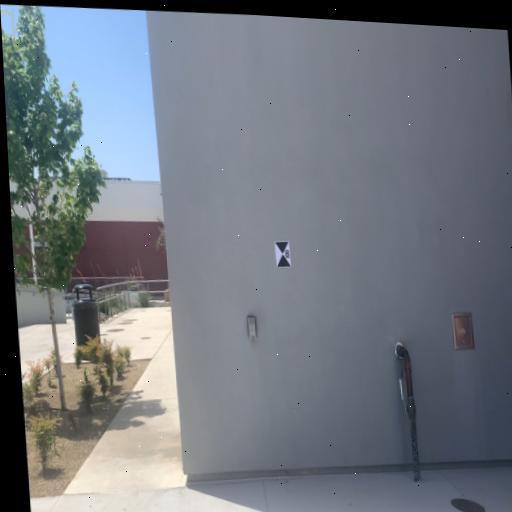target8: (274, 241, 292, 267)
